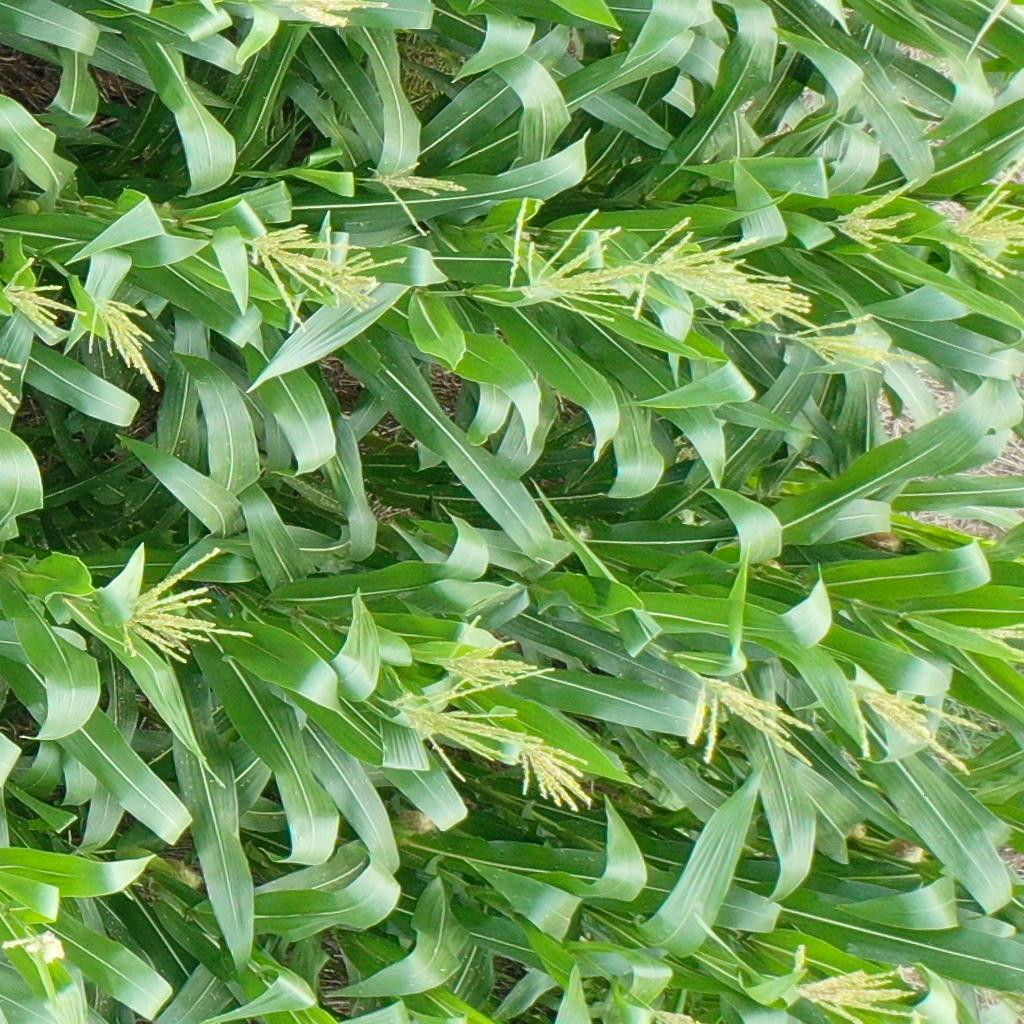Tassel: (615, 214, 811, 326), (390, 663, 555, 783), (502, 193, 645, 326), (116, 547, 255, 662), (243, 221, 370, 334), (842, 679, 987, 777), (683, 675, 816, 766), (785, 942, 928, 1024), (938, 159, 1024, 278), (790, 314, 930, 373), (1, 256, 90, 341), (89, 295, 166, 392), (440, 614, 537, 690), (379, 157, 468, 239), (836, 177, 920, 252), (521, 739, 598, 814), (321, 249, 408, 315), (273, 1, 392, 29), (1, 929, 68, 969), (970, 620, 1024, 661), (1, 354, 27, 416), (645, 1007, 696, 1024)
